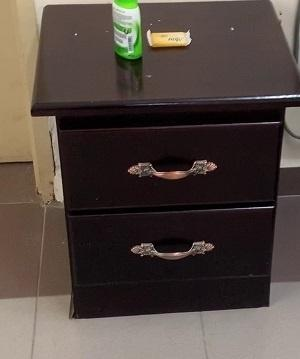cabinet_door: (66, 124, 281, 206), (75, 210, 275, 283)
handle: (126, 156, 219, 186), (130, 236, 217, 268)
